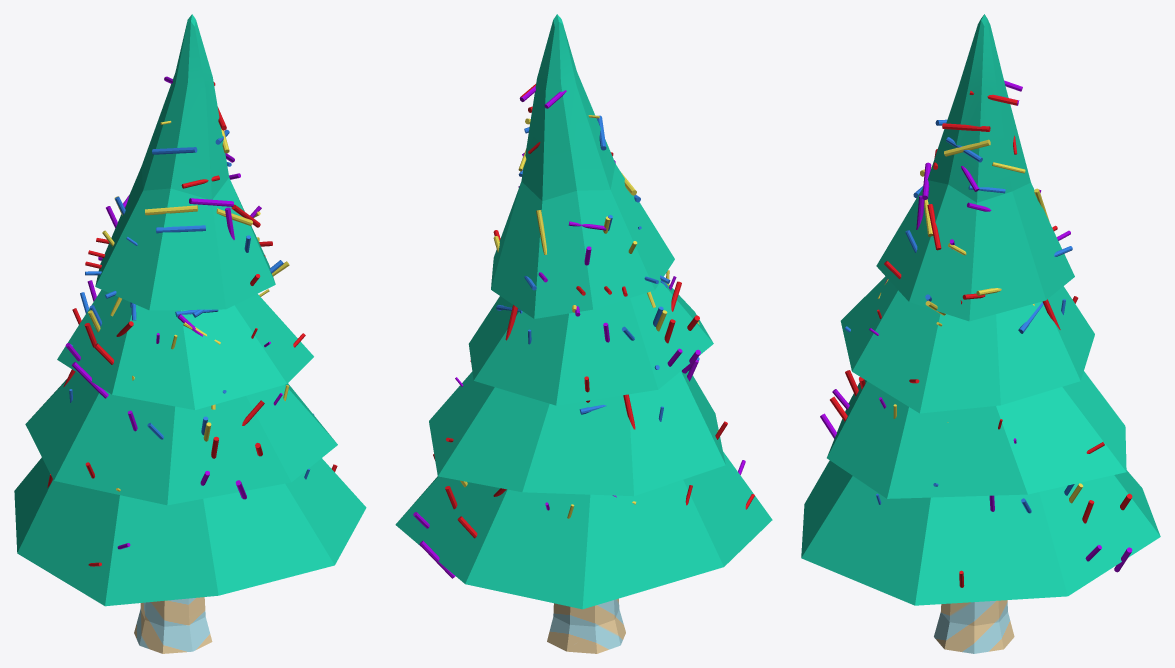
Rendered from Pine_Trees_Pack_Tree_stem_01.024.fbx.
3 views of the same model, side by side, from view 1: azimuth 30°, elevation 25°; view 2: azimuth 150°, elevation 25°; view 3: azimuth 270°, elevation 25° (orthographic). The views are drawn at different scales.
Parts seen in each view (by area): view 1: Pine_Trees_Pack_Tree_stem_01.024; view 2: Pine_Trees_Pack_Tree_stem_01.024; view 3: Pine_Trees_Pack_Tree_stem_01.024.
Part boxes in pixels (x1=…): Pine_Trees_Pack_Tree_stem_01.024: x1=14, y1=14, x2=366, y2=653; Pine_Trees_Pack_Tree_stem_01.024: x1=395, y1=14, x2=772, y2=653; Pine_Trees_Pack_Tree_stem_01.024: x1=801, y1=14, x2=1160, y2=653.
Bounding box in the file's own units: 254 × 479 × 246.
